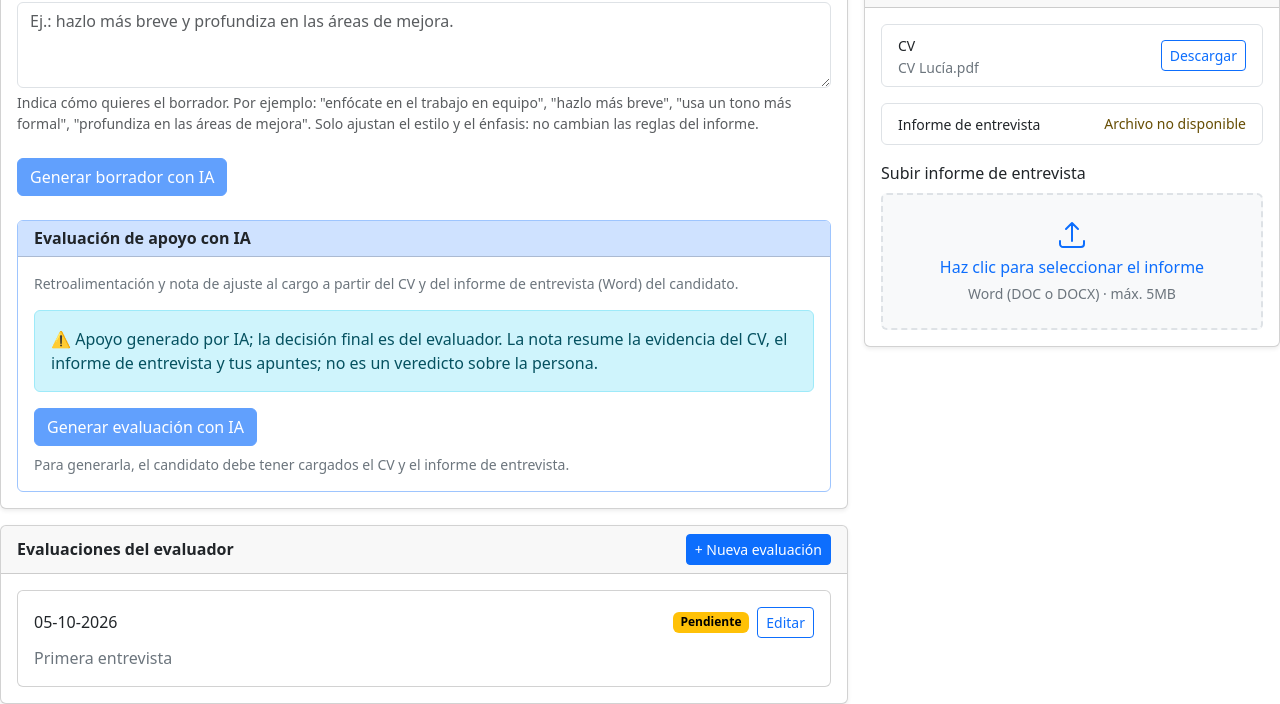
SolicitudDetalle › evaluaciones › el responsable edita una evaluación existente
(page scrolled)
Click the button "Editar" at (786, 622), box [757,607,814,638]
(page scrolled)
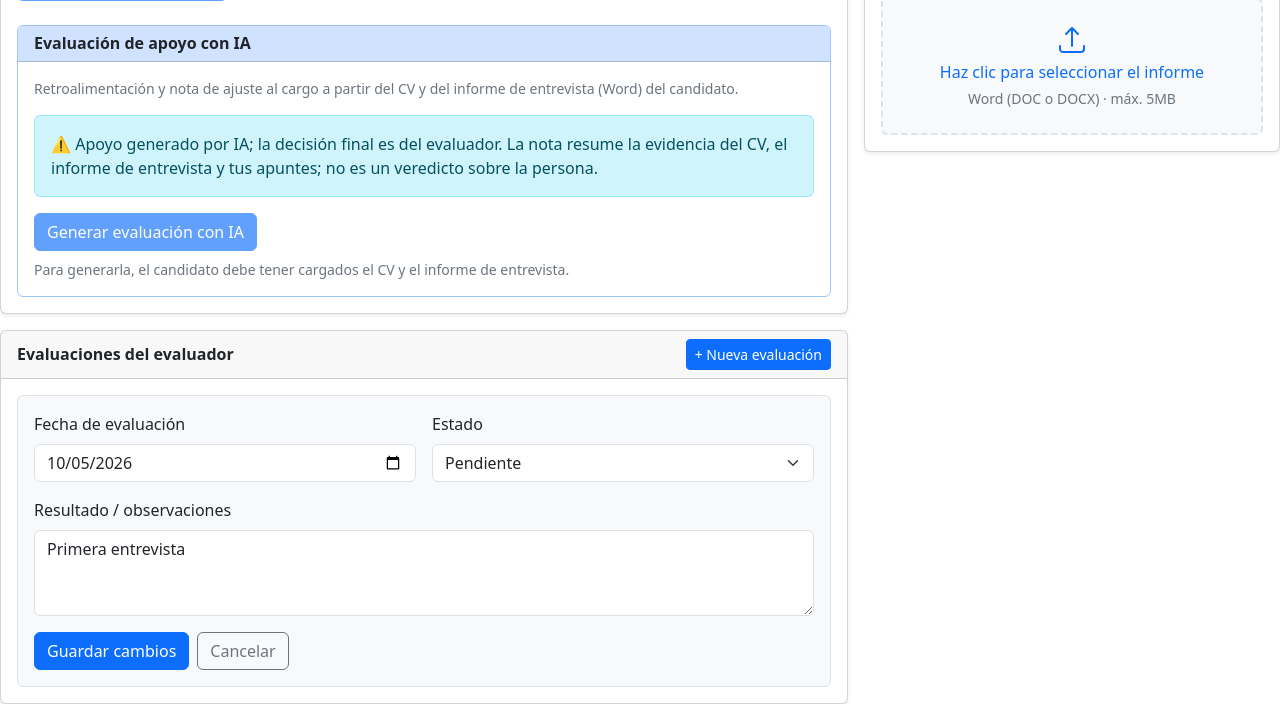
Result: the date field labelled "Fecha de evaluación" holds "2026-10-05" at [34,444,416,482]
Replace the text in the text box labelled "Resultado / observaciones" with "Entrevista revisada" at (424, 573), box [34,530,814,616]
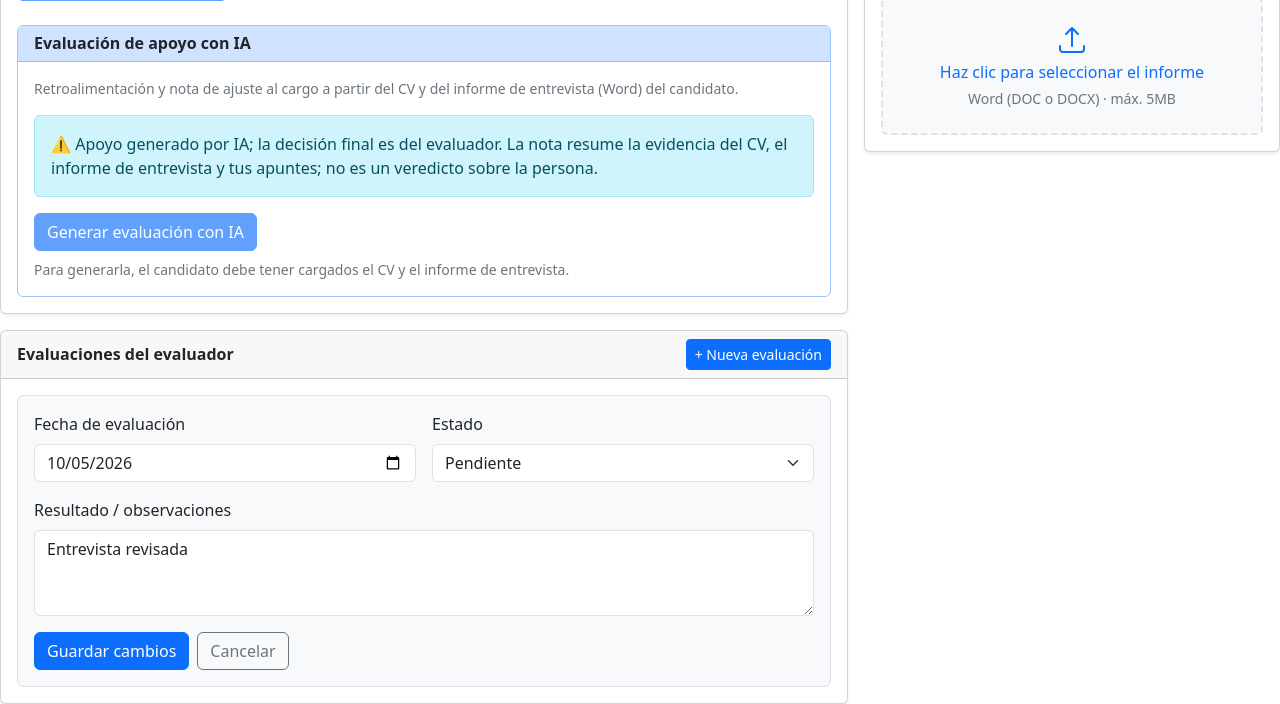
Click the button "Guardar cambios" at (112, 651), box [34,632,189,670]
(page scrolled)
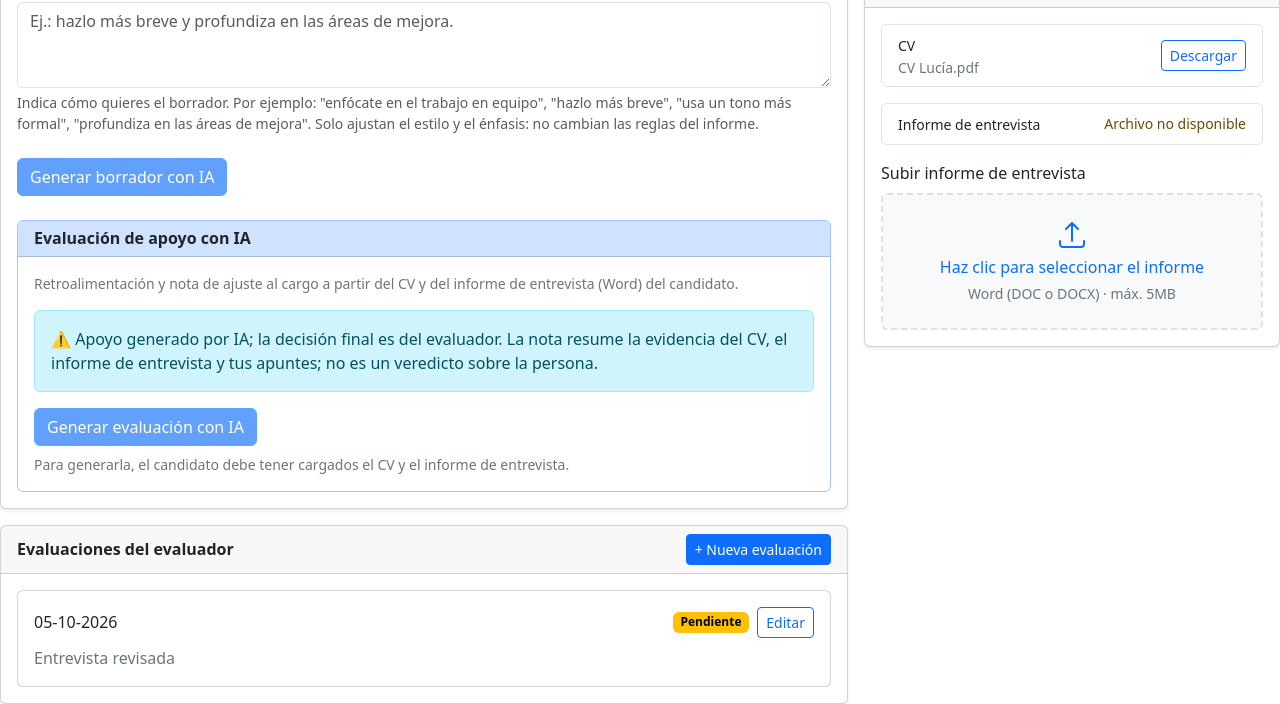
Result: the text "Entrevista revisada" is shown at [34,647,175,669]
